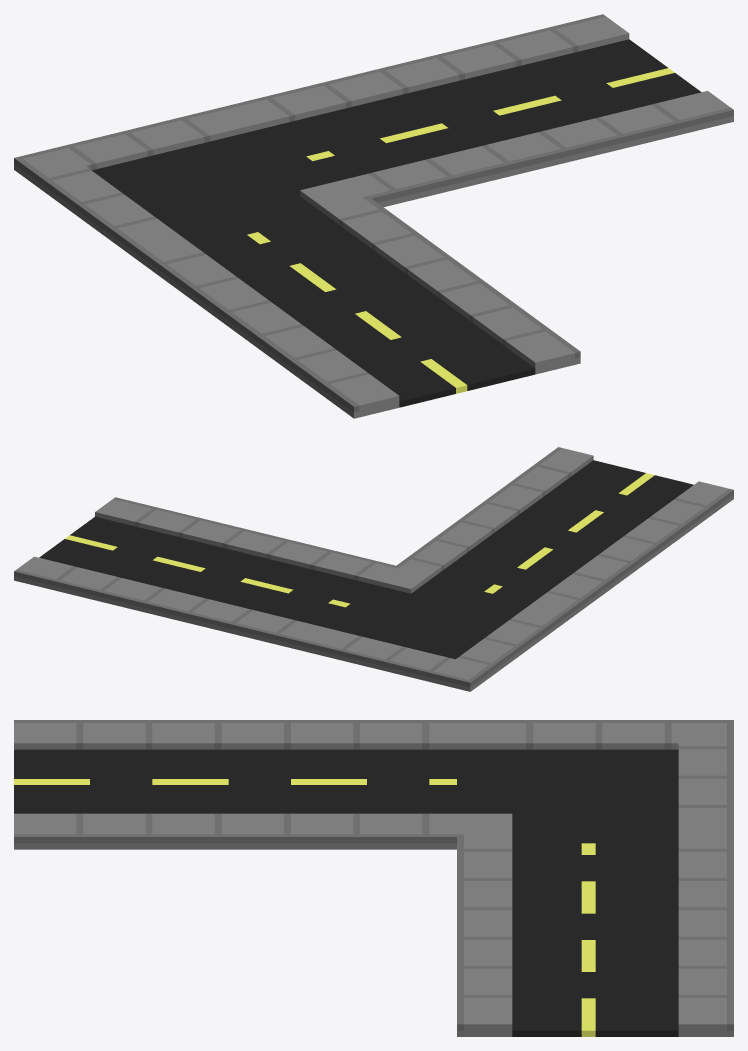
The model's file is store_fill-1.obj.
The picture shows the model from 3 angles, top to bottom: view 1: azimuth 30°, elevation 25°; view 2: azimuth 150°, elevation 25°; view 3: azimuth 270°, elevation 25°; orthographic projection. The views are drawn at different scales.
Visible parts, largest first — view 1: store_fill-1; view 2: store_fill-1; view 3: store_fill-1.
Part boxes in pixels (x1,y1,x2,y2): store_fill-1: [14, 14, 733, 418]; store_fill-1: [14, 447, 733, 691]; store_fill-1: [14, 720, 733, 1036].
Bounding box in the file's own units: 104 × 2 × 104.
1 material, 1 textured.
